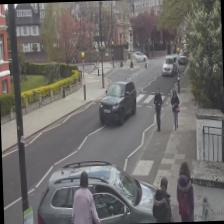person: (70, 169, 101, 224), (176, 160, 194, 222), (150, 176, 173, 222), (153, 87, 164, 132), (170, 90, 180, 130)
